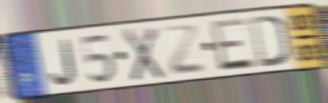5: (79, 31, 117, 85)
D: (248, 13, 291, 69)
E: (208, 15, 257, 73)
J: (48, 37, 78, 87)
X: (121, 26, 166, 83)
Z: (160, 24, 207, 77)
